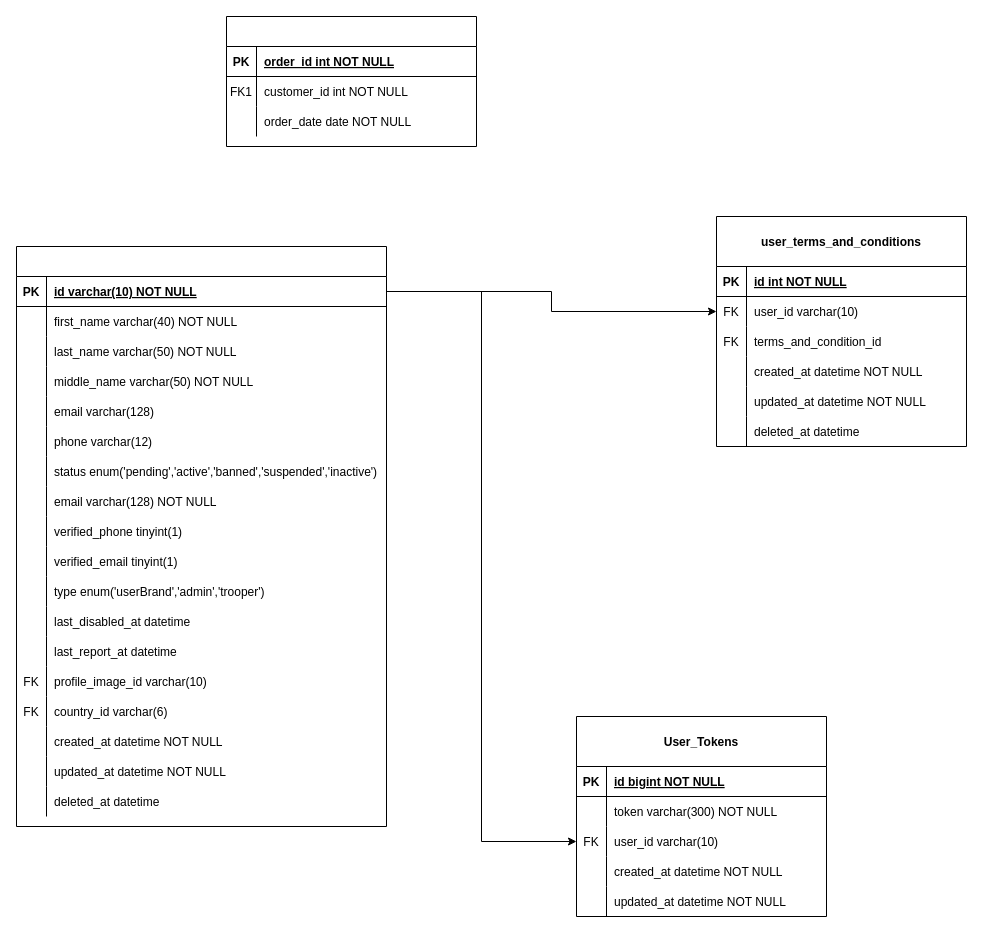
Some shapes in this 983 by 933 pixel diagram are drawn without their labels. Here are the shapes that lost their labels. From the top down, the box of each, then its label:
(226, 16, 476, 146): Challenges
(16, 246, 386, 826): Users
